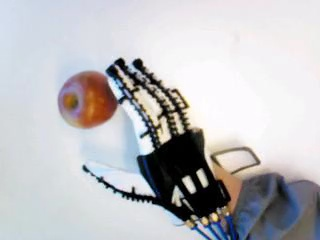apple: (55, 68, 118, 128)
hand: (79, 57, 231, 227)
